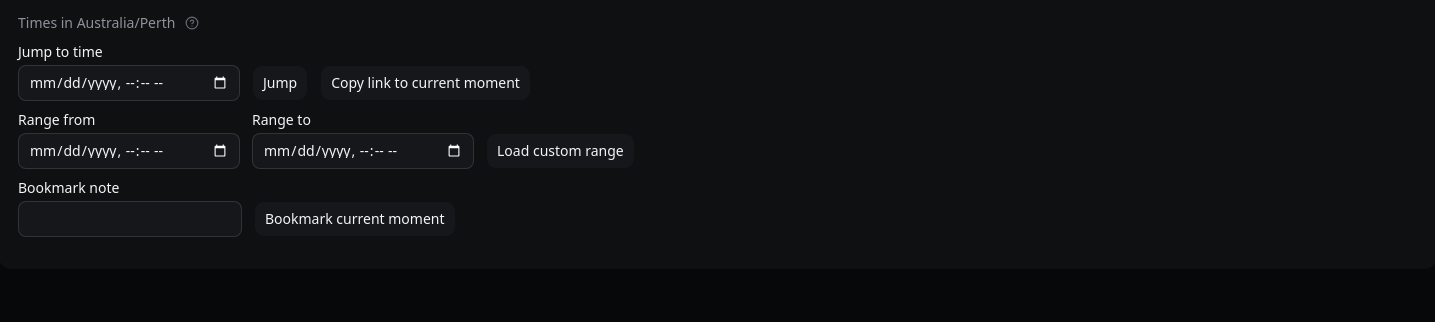
it: copies the current instant immediately and provides a selectable fallback when denied
Click the button "Copy link to current moment": click(426, 83) [320,65,531,101]
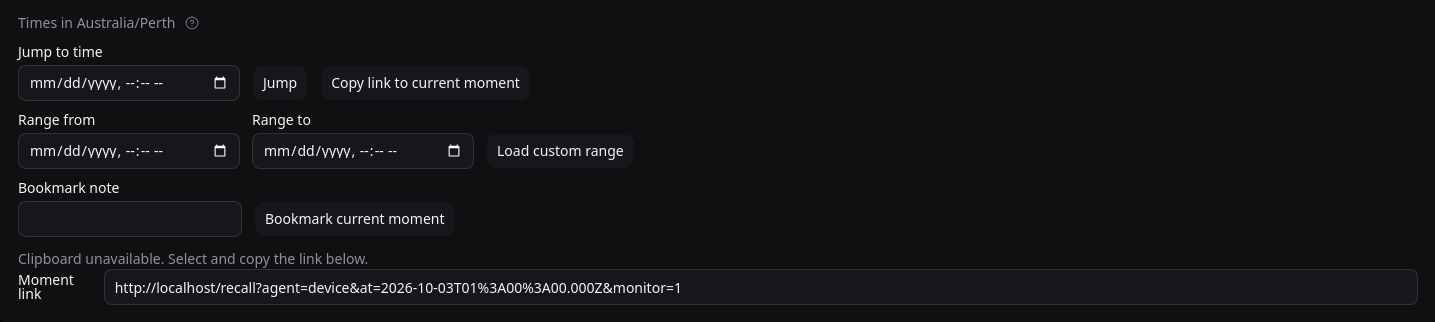
Result: the text "Clipboard unavailable" is shown at [18,249,368,268]
Click the button "Copy link to current moment": click(426, 83) [320,65,531,101]
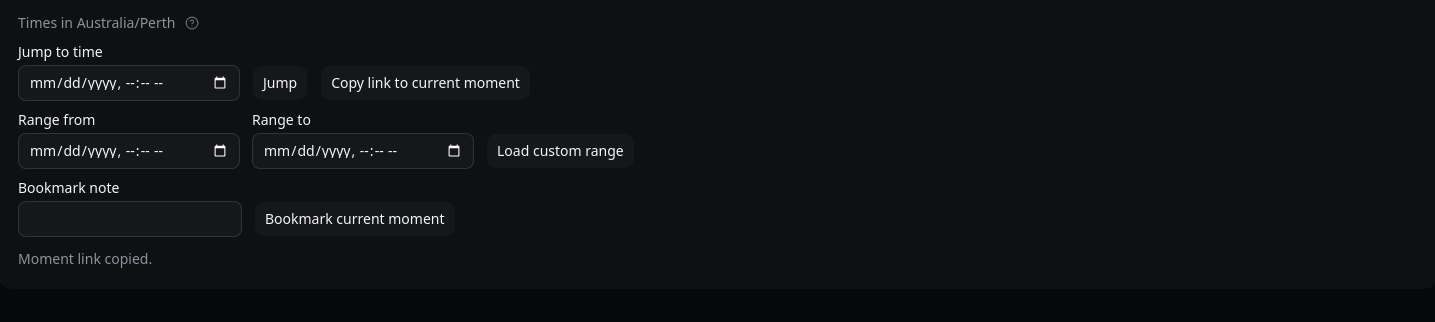
Result: the text "Moment link copied" is shown at [18,249,152,268]
